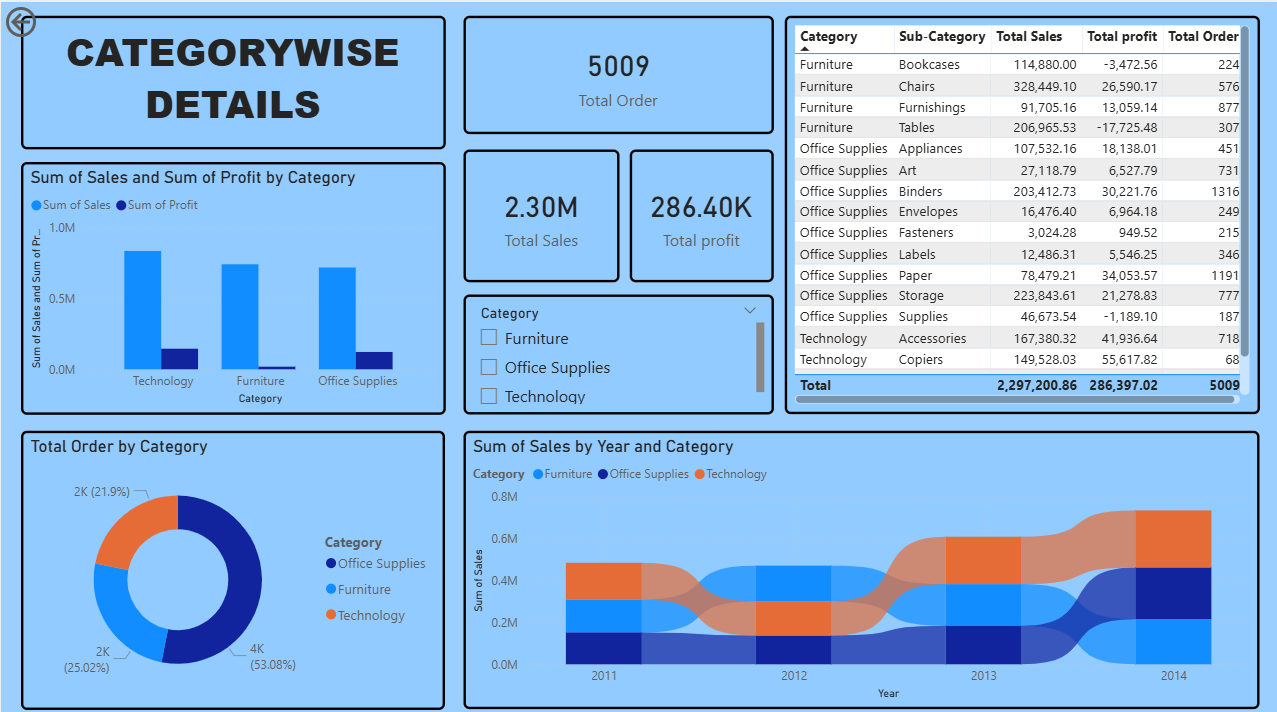

The dashboard page shown, as its layout file describes it:
{"tool":"powerbi","page":{"name":"Details page","canvas":[1280,720],"ordinal":2},"visuals":[{"type":"clusteredColumnChart","fields":{"Y":["Sum(Orders.Sales)","Sum(Orders.Profit)"],"Category":["Orders.Category"]},"box":[20,160,425,252.5],"z":0},{"type":"donutChart","fields":{"Y":["Orders.Total_order"],"Category":["Orders.Category"]},"box":[20.5,428.2,424.4,279.5],"z":1000},{"type":"ribbonChart","fields":{"Category":["Calender.Year Hierarchy.Year"],"Y":["Sum(Orders.Sales)"],"Series":["Orders.Category"]},"box":[462.5,428.8,796.2,278.8],"z":2000},{"type":"tableEx","fields":{"Values":["Orders.Category","Orders.Sub-Category","Orders.total_sales","Orders.Total profit","Orders.Total_order"]},"box":[783.8,13.8,475,398.8],"z":3000},{"type":"textbox","box":[20,13.8,425,133.8],"z":4000},{"type":"card","fields":{"Values":["Orders.Total_order"]},"box":[462.5,13.8,310,118.8],"z":5000},{"type":"card","fields":{"Values":["Orders.Total profit"]},"box":[628.8,147.5,143.8,132.5],"z":6000},{"type":"card","fields":{"Values":["Orders.total_sales"]},"box":[462.5,147.5,156.2,132.5],"z":7000},{"type":"slicer","fields":{"Values":["Orders.Category"]},"box":[462.5,292.5,310,120],"z":8000},{"type":"actionButton","box":[0,0,100,40],"z":8001}]}

Visuals, with their boxes in screenshot pixels (x1, y1, x2, y2), scaled from the page's 1280x720 canvas onto the 1277x712 screenshot:
clusteredColumnChart - Sum(Orders.Sales) x Sum(Orders.Profit): x1=20 y1=158 x2=444 y2=408
donutChart - Orders.Total_order x Orders.Category: x1=20 y1=423 x2=444 y2=700
ribbonChart - Calender.Year Hierarchy.Year x Sum(Orders.Sales): x1=461 y1=424 x2=1256 y2=700
tableEx - Orders.Category x Orders.Sub-Category: x1=782 y1=14 x2=1256 y2=408
textbox: x1=20 y1=14 x2=444 y2=146
card - Orders.Total_order: x1=461 y1=14 x2=771 y2=131
card - Orders.Total profit: x1=627 y1=146 x2=771 y2=277
card - Orders.total_sales: x1=461 y1=146 x2=617 y2=277
slicer - Orders.Category: x1=461 y1=289 x2=771 y2=408
actionButton: x1=0 y1=0 x2=100 y2=40
